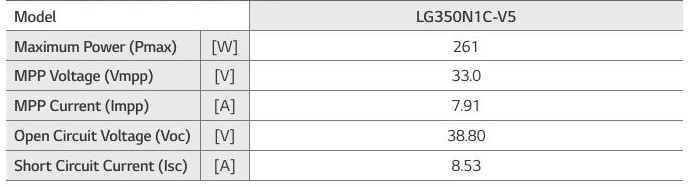table: (1, 1, 700, 188)
table column: (258, 1, 678, 184), (6, 1, 197, 185), (205, 1, 245, 183)
table row: (3, 63, 687, 90), (3, 2, 683, 29), (3, 32, 685, 58), (3, 154, 689, 179), (4, 94, 688, 119), (3, 124, 688, 148)
table spanning cell: (4, 4, 247, 28)
